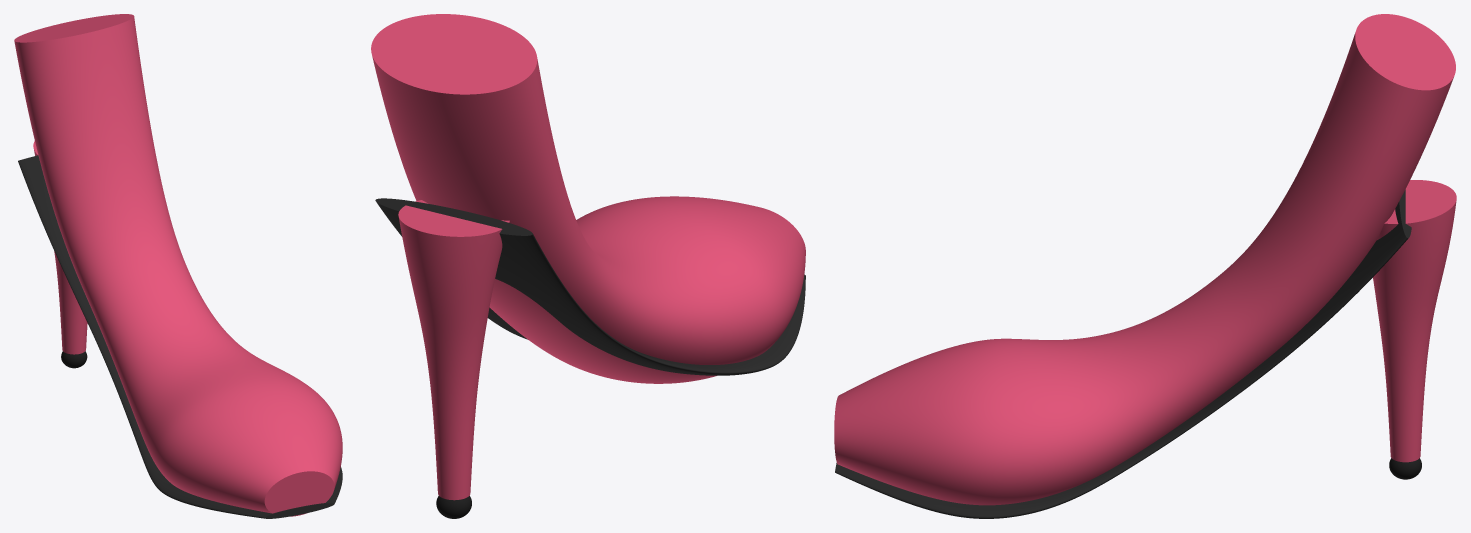
The model's file is tacon.glb.
3 views of the same model, side by side, from view 1: azimuth 30°, elevation 25°; view 2: azimuth 150°, elevation 25°; view 3: azimuth 270°, elevation 25° (orthographic). The views are drawn at different scales.
Parts seen in each view (by area): view 1: Heel_Upper, Heel_Sole, Heel_Stiletto; view 2: Heel_Upper, Heel_Stiletto, Heel_Sole, Heel_Tip; view 3: Heel_Upper, Heel_Stiletto, Heel_Sole.
Part boxes in pixels (box(x1,y1,x2,y2)): Heel_Upper: box(14, 14, 342, 516); Heel_Sole: box(18, 155, 342, 518); Heel_Stiletto: box(33, 141, 87, 354); Heel_Upper: box(371, 14, 805, 383); Heel_Stiletto: box(398, 200, 509, 500); Heel_Sole: box(375, 198, 805, 375); Heel_Tip: box(436, 495, 471, 518); Heel_Upper: box(834, 14, 1455, 505); Heel_Stiletto: box(1373, 180, 1456, 462); Heel_Sole: box(835, 189, 1411, 518).
Bounding box in the file's own units: 0.0616 × 0.1272 × 0.1582.
